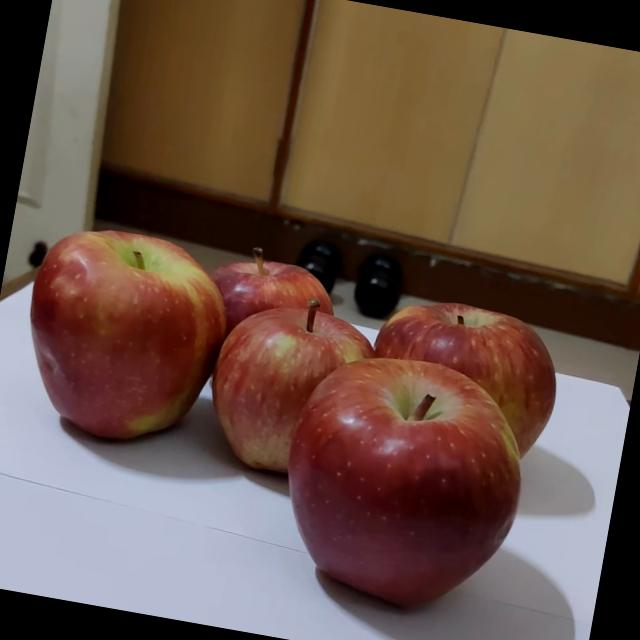apple: (162, 304, 434, 588), (334, 268, 560, 486), (16, 186, 233, 409), (168, 253, 361, 446), (198, 219, 362, 378)
